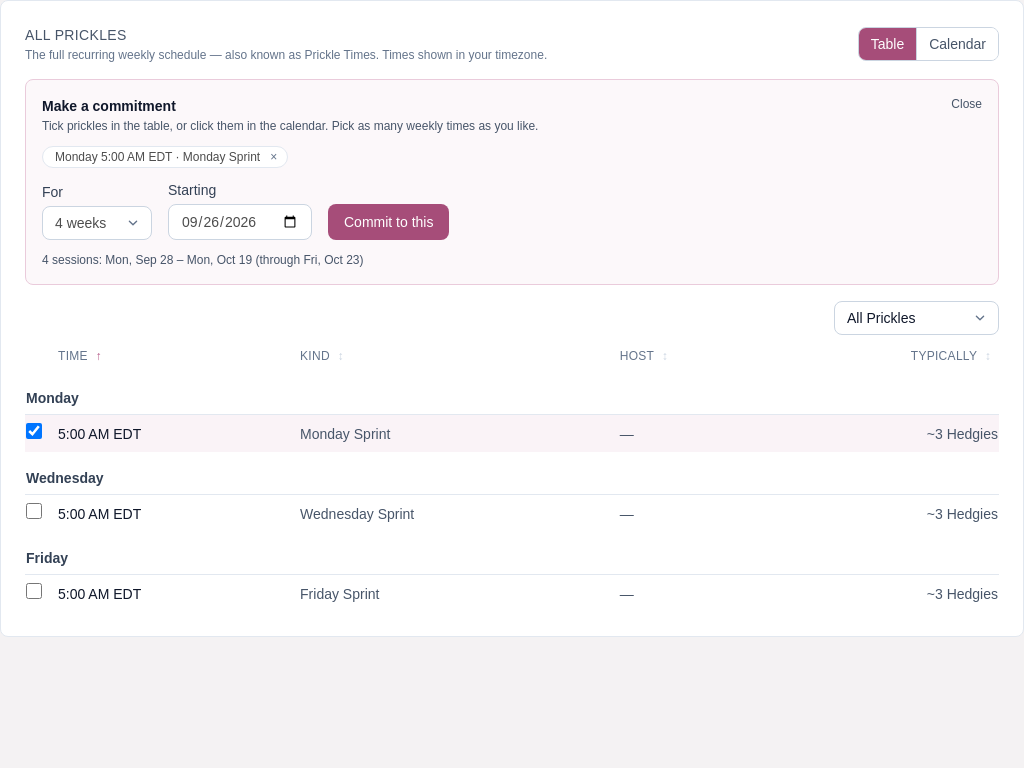
All Prickles commit mode › closing the panel leaves commit mode and clears the picks
Click the button "Close". click: click(967, 104)
box: [951,96,982,112]
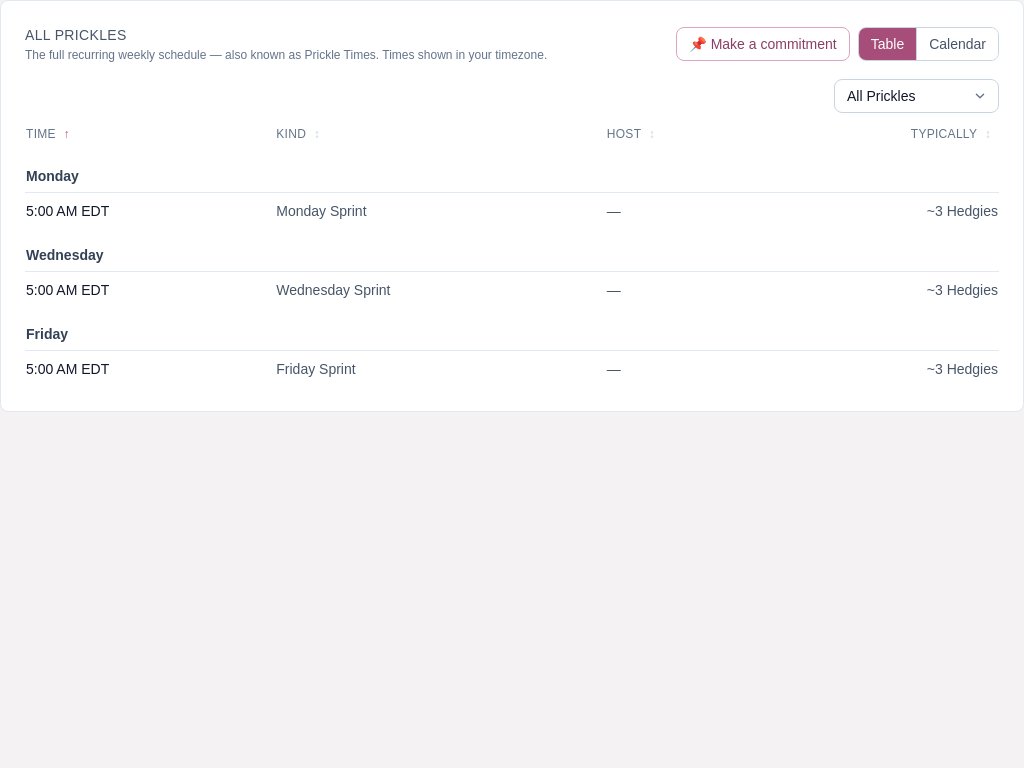
Result: the checkbox is gone
Click the button "📌 Make a commitment". click: click(763, 44)
box: [676,27,850,61]
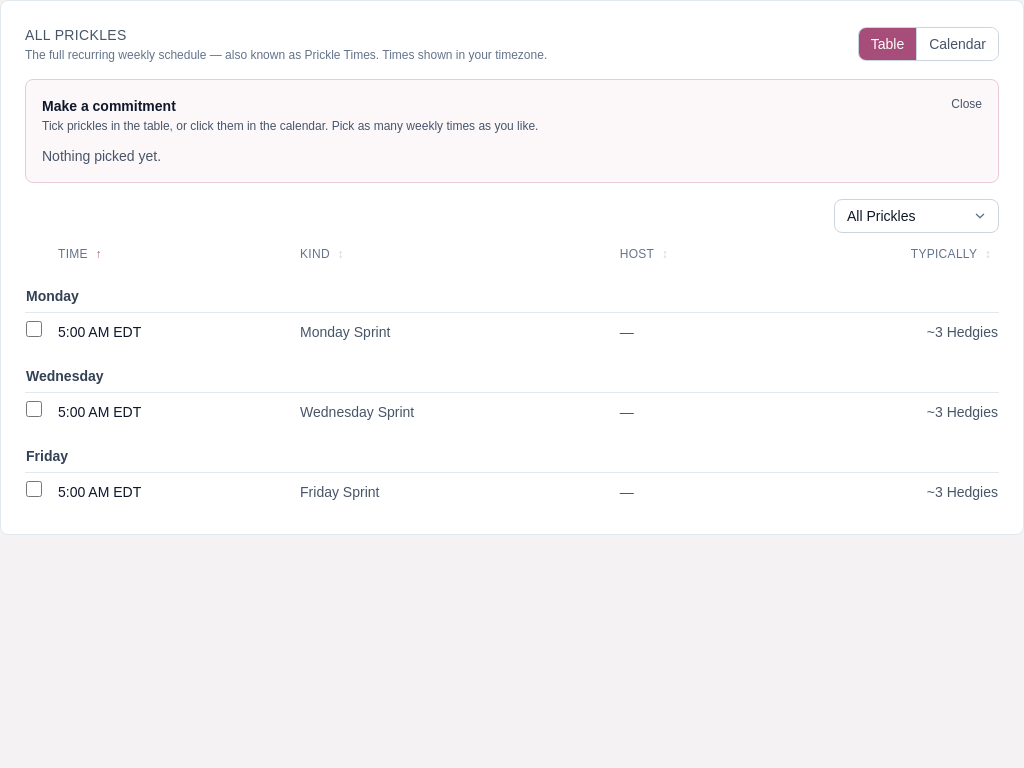
Result: the text "Nothing picked yet." is shown at [42,148,161,164]
